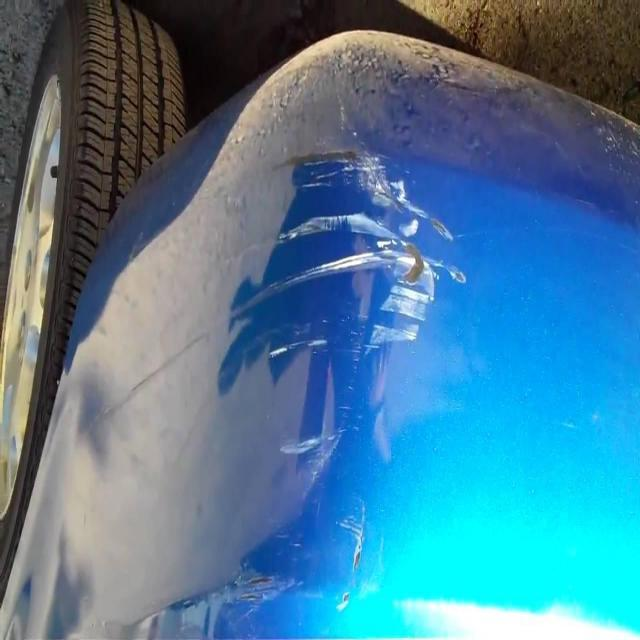scratch: (223, 118, 471, 572)
